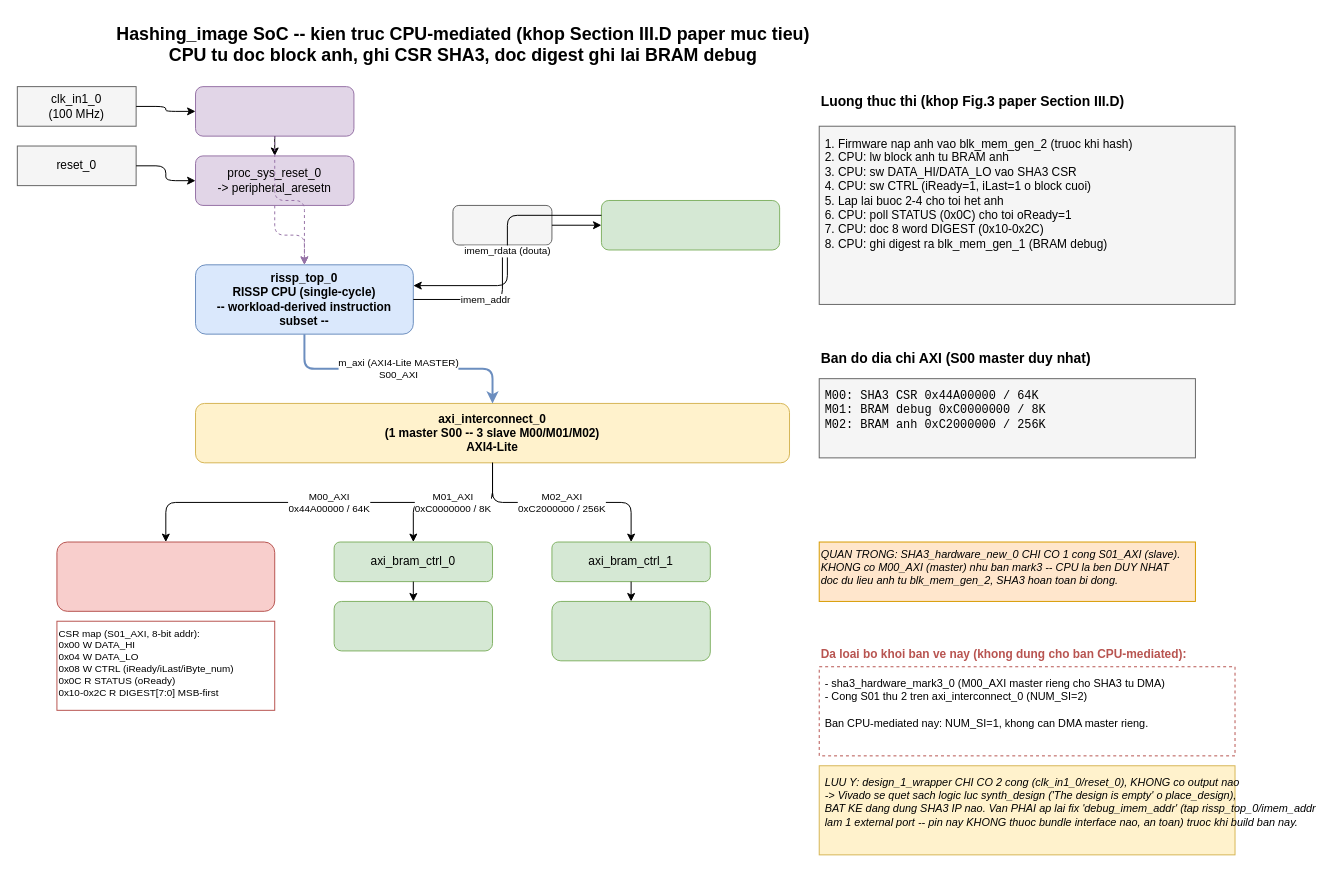
This 1334x872 diagram has some shape labels left out. The shapes that lost their labels are listed below. From the top down, each one's box as (x1, y1, x2, y2) in pixels, then its label:
(195, 86, 354, 136): clk_wiz_0 Clocking Wizard 100MHz -> 40MHz
(452, 204, 552, 245): xlslice_0
(600, 199, 780, 250): blk_mem_gen_0 imem ROM (chuong trinh) 1-cycle latency
(56, 541, 275, 611): SHA3_hardware_new_0 SHA3-256 (Keccak) -- CPU-MEDIATED (khong sua RTL loi Keccak)
(333, 600, 493, 651): blk_mem_gen_1 BRAM debug (ket qua) 0xC0000000 / 8K
(551, 600, 710, 661): blk_mem_gen_2 BRAM anh (input) 0xC2000000 / 256K (du 512x512 = 262144 byte)
